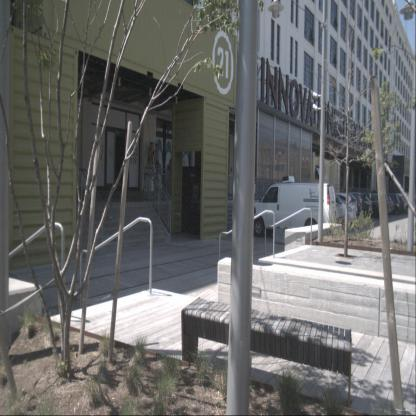vehicle-car: (249, 182, 337, 245), (302, 196, 356, 230), (300, 194, 344, 228), (317, 192, 359, 226), (329, 192, 364, 223), (346, 192, 374, 223), (358, 192, 386, 219), (380, 192, 400, 216), (384, 195, 406, 215)
